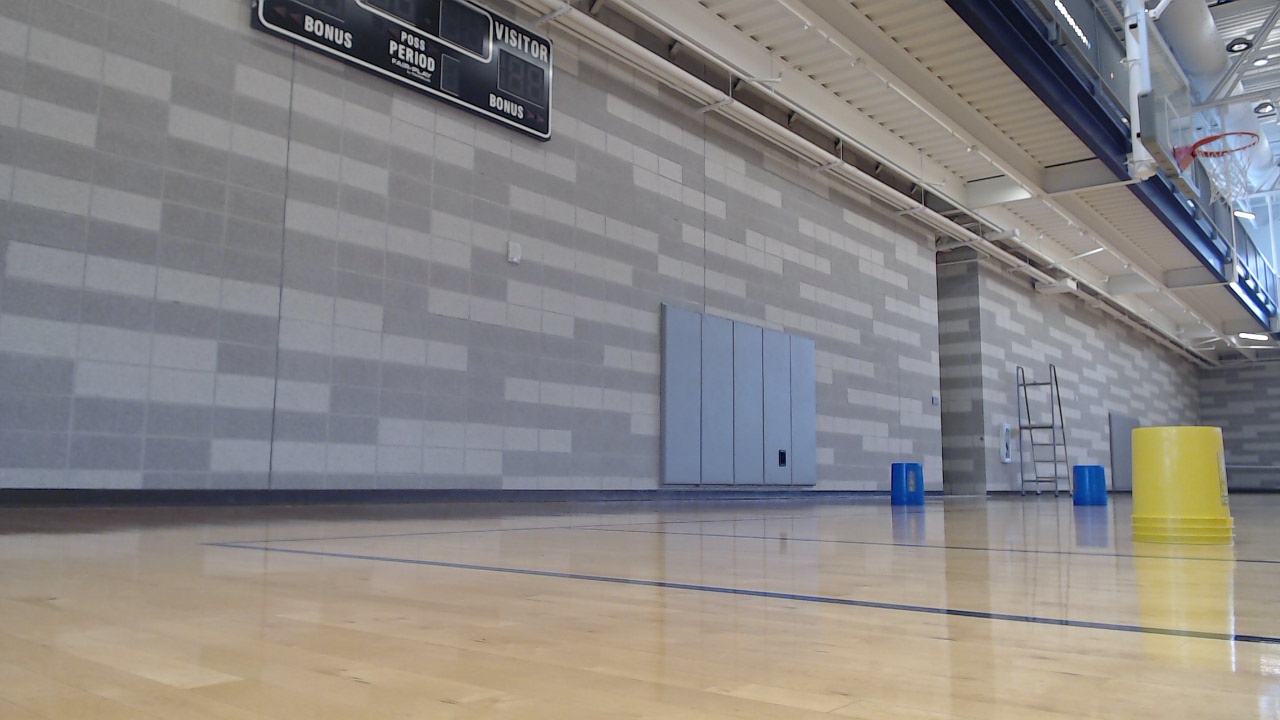blue_bucket: (1071, 466, 1117, 514), (891, 464, 933, 514)
yellow_bucket: (1130, 426, 1248, 554)
